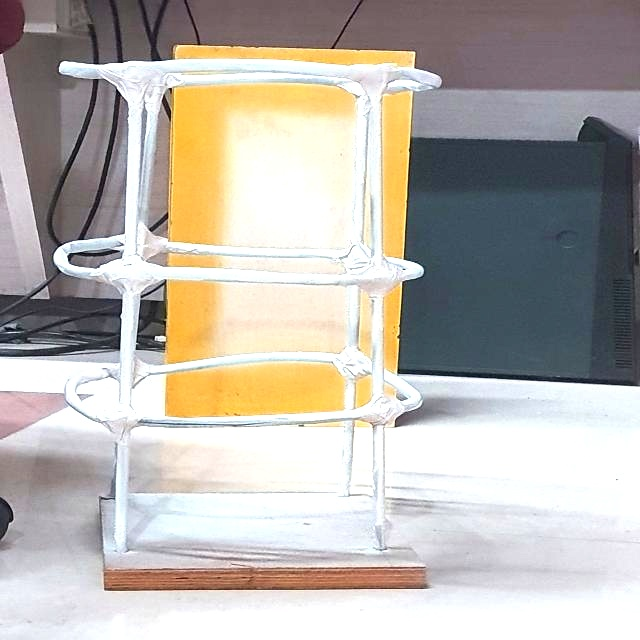silo: (63, 57, 415, 576)
